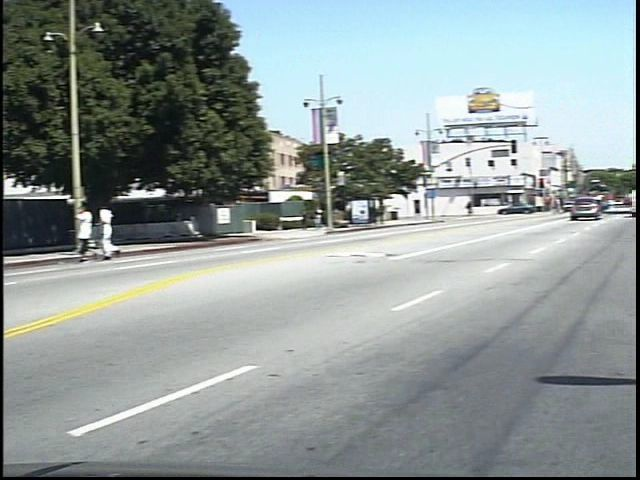person: (87, 201, 113, 263), (110, 201, 135, 263), (322, 205, 337, 233), (310, 207, 324, 232), (477, 197, 490, 220)
